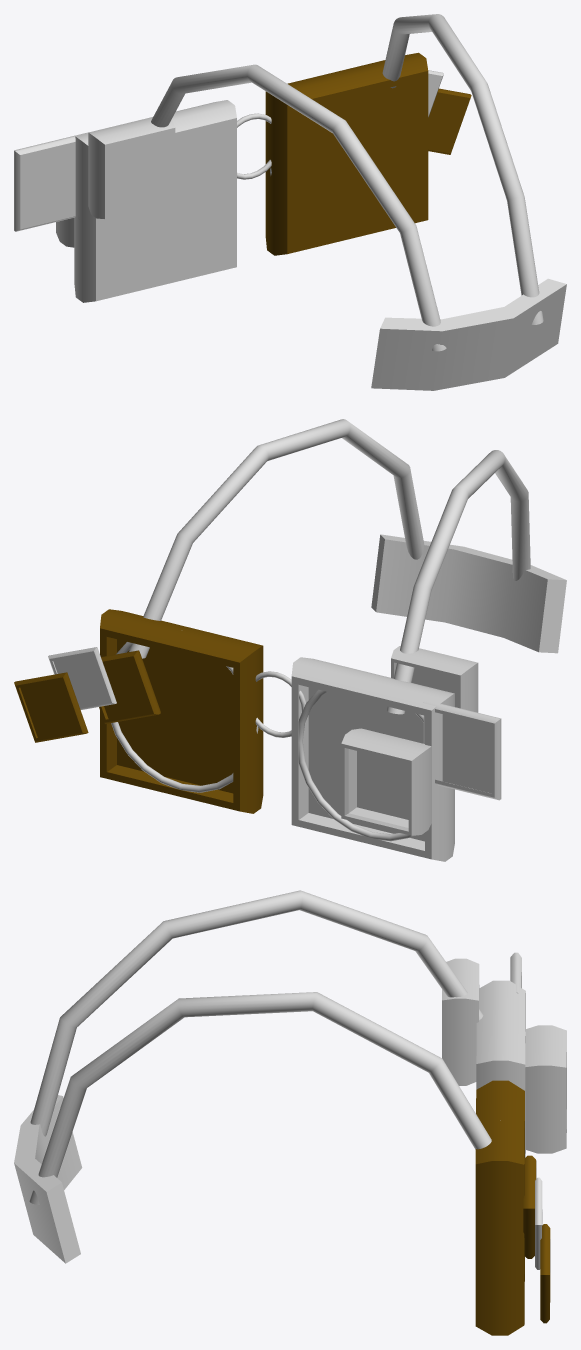
The model's file is fliter_metal_material_test.FBX.
3 views of the same model, one above another, from view 1: azimuth 30°, elevation 25°; view 2: azimuth 150°, elevation 25°; view 3: azimuth 270°, elevation 25° (orthographic). The views are drawn at different scales.
Parts seen in each view (by area): view 1: Box002, Box001, Box009, Cylinder001, Box008, Cylinder002, Box006, Box004, Torus001, Box007; view 2: Box002, Box001, Box009, Box007, Cylinder002, Cylinder001, Box006, Box004, Box008, Box003, Box005, Torus003 (+2 smaller); view 3: Box002, Cylinder002, Cylinder001, Box009, Box007, Box001, Box008, Box003, Box004, Box005.
Boxes of the visible parts, <box> form: Box002: <box>265,52,428,255</box>; Box001: <box>74,100,236,302</box>; Box009: <box>371,278,566,390</box>; Cylinder001: <box>151,64,446,351</box>; Box008: <box>88,117,175,218</box>; Cylinder002: <box>382,14,543,324</box>; Box006: <box>14,132,88,231</box>; Box004: <box>428,88,471,154</box>; Torus001: <box>237,113,271,179</box>; Box007: <box>56,218,74,247</box>; Box002: <box>100,609,263,813</box>; Box001: <box>291,657,454,861</box>; Box009: <box>371,534,566,653</box>; Box007: <box>341,728,431,835</box>; Cylinder002: <box>129,419,424,658</box>; Cylinder001: <box>386,450,530,714</box>; Box006: <box>423,700,501,800</box>; Box004: <box>14,672,88,742</box>; Box008: <box>391,646,478,712</box>; Box003: <box>99,650,160,723</box>; Box005: <box>48,647,116,709</box>; Torus003: <box>298,679,423,841</box>; Box002: <box>475,1080,524,1335</box>; Cylinder002: <box>29,992,491,1204</box>; Cylinder001: <box>30,890,483,1136</box>; Box009: <box>14,1095,82,1263</box>; Box007: <box>525,1025,566,1153</box>; Box001: <box>476,980,525,1157</box>; Box008: <box>442,958,479,1085</box>; Box003: <box>523,1155,536,1258</box>; Box004: <box>540,1224,550,1323</box>; Box005: <box>535,1177,542,1269</box>.
Bounding box in the file's own units: 243 × 140 × 229.
